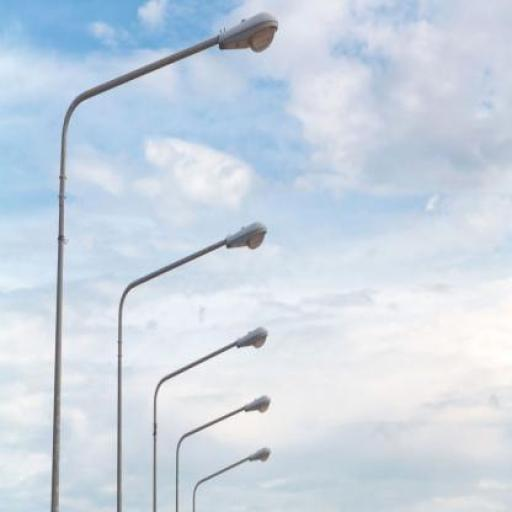street light: (50, 11, 279, 511), (117, 222, 268, 512), (153, 328, 268, 512), (175, 395, 271, 512), (192, 447, 271, 511)
